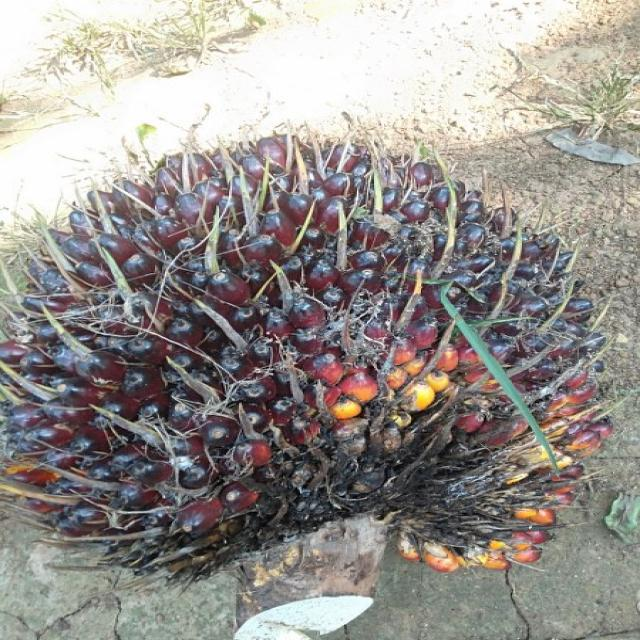fraksi 1: (0, 108, 616, 598)
